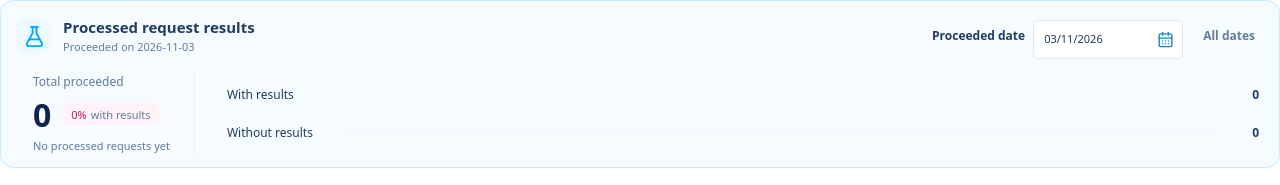
Test: filters by proceeded date rather than request date and preserves that date in the table link
Replace the text in the field labelled "Proceeded date" with "2026-10-22" at [1108, 40], box [1033,20,1183,59]
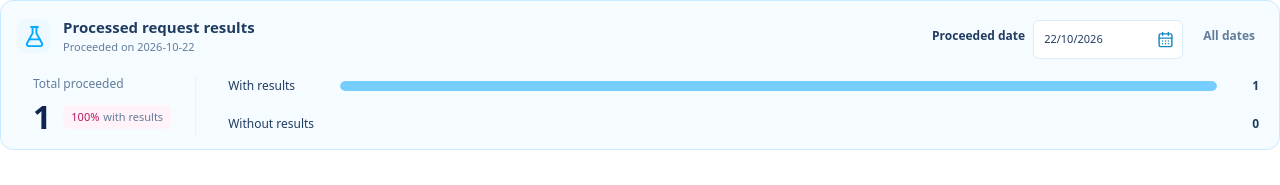
Result: the text "1" next to "100" is shown at [33,95,51,138]
Click the button "All dates" at [1229, 36], box [1195,17,1263,55]
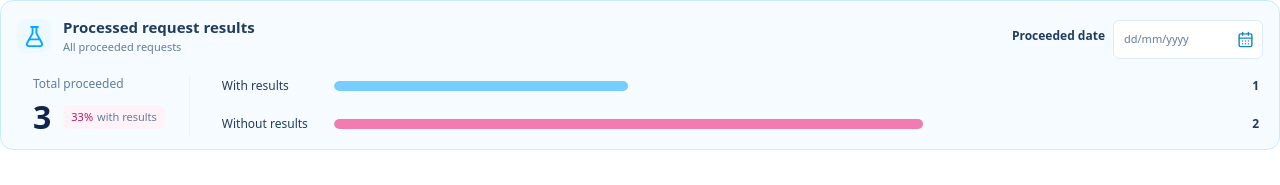
Result: the text "3" is shown at [33,99,51,135]
